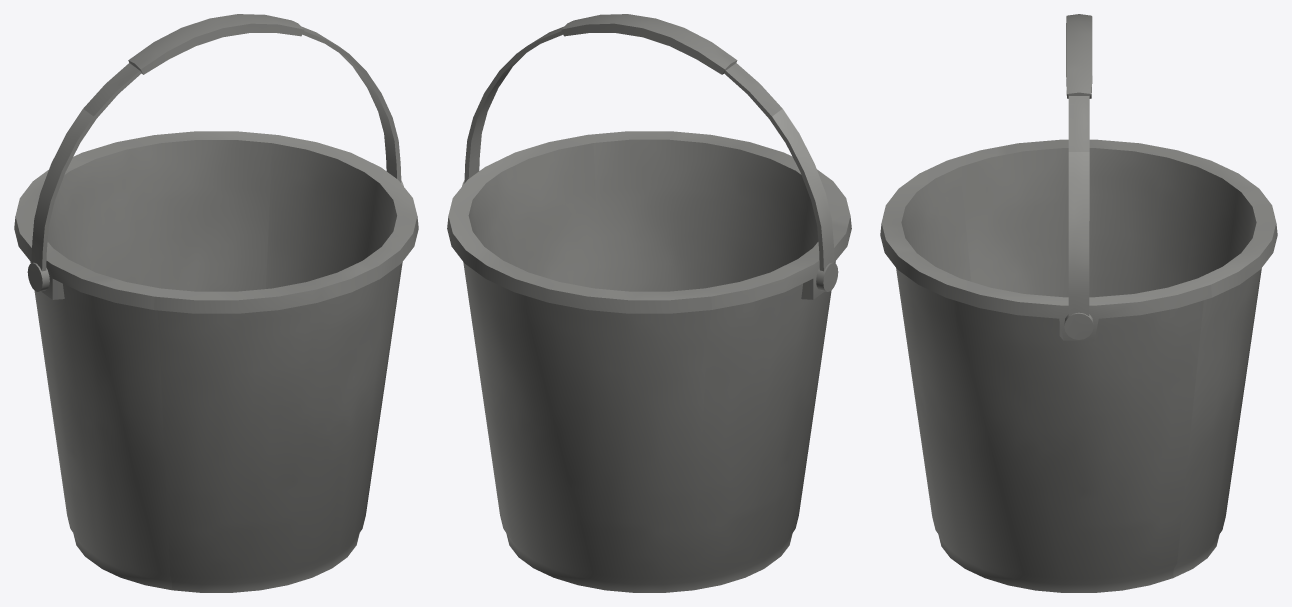
Rendered from bucket.glb.
3 renders of one model, left to right at view 1: azimuth 30°, elevation 25°; view 2: azimuth 150°, elevation 25°; view 3: azimuth 270°, elevation 25°, orthographic.
Parts seen in each view (by area): view 1: bucket; view 2: bucket; view 3: bucket.
Boxes of the visible parts, bbox=[...] form: bucket: bbox=[14, 14, 418, 592]; bucket: bbox=[447, 14, 851, 592]; bucket: bbox=[880, 14, 1277, 592].
Bounding box in the file's own units: 0.3322 × 0.4467 × 0.3211.
Materials: 1 (1 with a texture image).
